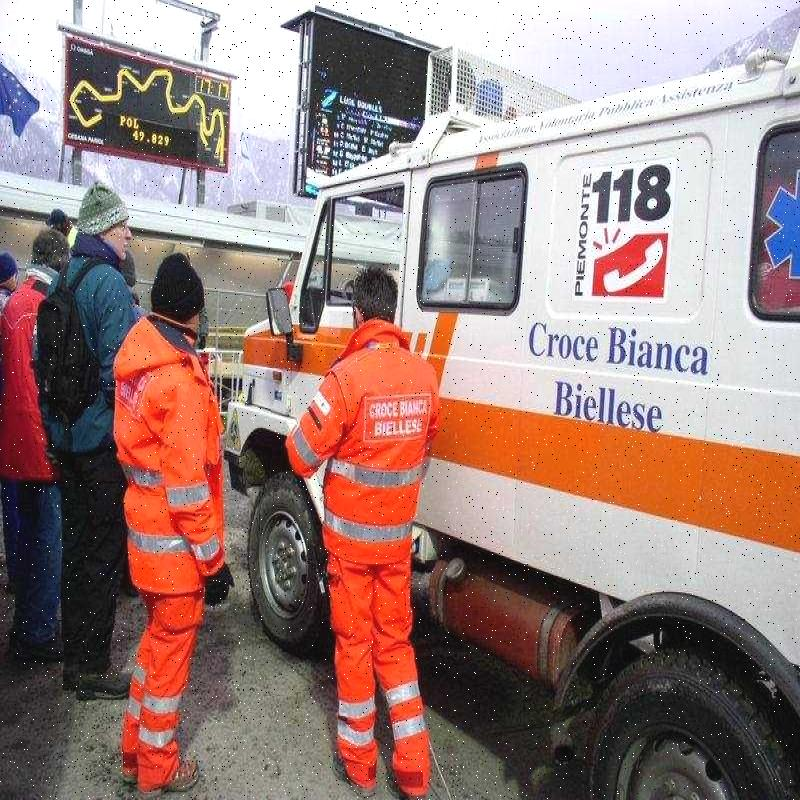AmbulanceSiren: (451, 74, 500, 127)
